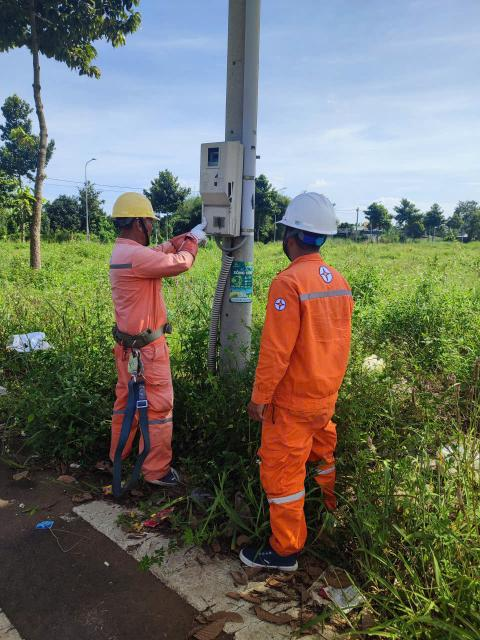gloves: (185, 217, 216, 253)
harness: (99, 319, 188, 352)
helmet: (264, 182, 366, 245), (100, 174, 160, 234)
shoes: (213, 529, 303, 578), (138, 457, 189, 488)
